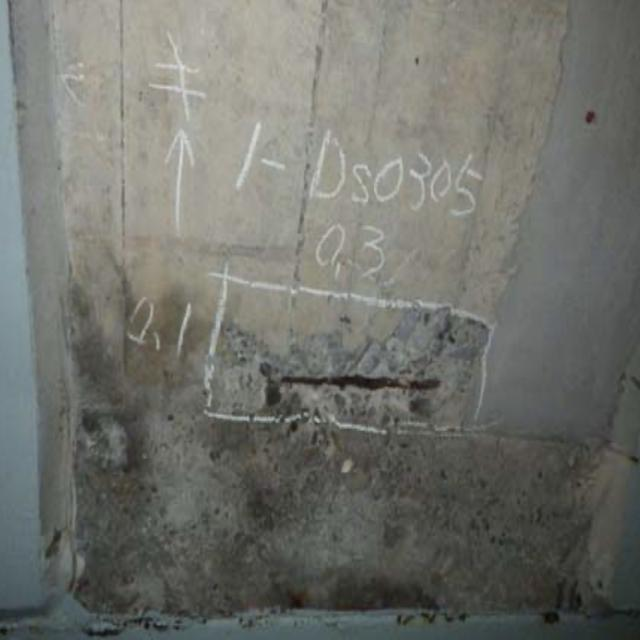spalling: (221, 270, 500, 440)
